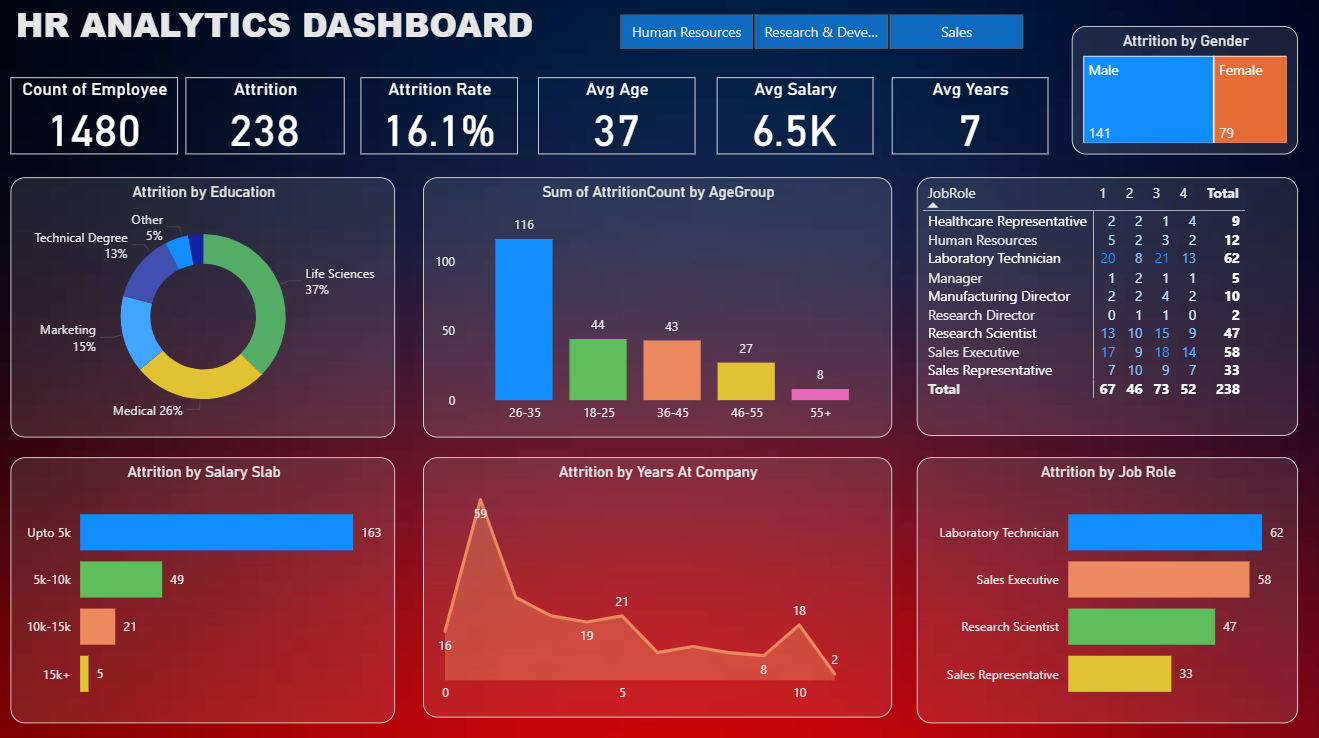

What the dashboard file says about the page in this screenshot:
{"tool":"powerbi","page":{"name":"Page 1","canvas":[1280,720],"ordinal":0},"visuals":[{"type":"card","title":"Count of Employee","fields":{"Values":["CountNonNull(HR_Analytics.EmpID)"]},"box":[12.1,78.4,153.2,74.8],"z":0},{"type":"card","title":"Attrition","fields":{"Values":["Sum(HR_Analytics.AttritionCount)"]},"box":[181,78.4,153.2,74.8],"z":1000},{"type":"card","title":"Attrition Rate","fields":{"Values":["HR_Analytics.AttritionRate"]},"box":[349.9,78.4,152,74.8],"z":2000},{"type":"card","title":"Avg Age","fields":{"Values":["Avg(HR_Analytics.Age)"]},"box":[521.2,78.4,152,74.8],"z":3000},{"type":"card","title":"Avg Salary","fields":{"Values":["Avg(HR_Analytics.MonthlyIncome)"]},"box":[693.7,78.4,150.8,74.8],"z":4000},{"type":"card","title":"Avg Years","fields":{"Values":["Avg(HR_Analytics.YearsAtCompany)"]},"box":[862.6,78.4,150.8,74.8],"z":5000},{"type":"donutChart","title":"Attrition by Education","fields":{"Category":["HR_Analytics.EducationField"],"Y":["Sum(HR_Analytics.AttritionCount)"]},"box":[12.1,174.9,371.6,250.9],"z":6000},{"type":"columnChart","fields":{"Category":["HR_Analytics.AgeGroup"],"Y":["Sum(HR_Analytics.AttritionCount)"]},"box":[410.2,174.9,452.4,250.9],"z":7000},{"type":"pivotTable","fields":{"Rows":["HR_Analytics.JobRole"],"Columns":["HR_Analytics.JobSatisfaction"],"Values":["Sum(HR_Analytics.AttritionCount)"]},"box":[886.7,174.9,368,249.7],"z":8000},{"type":"barChart","title":"Attrition by Salary Slab","fields":{"Category":["HR_Analytics.SalarySlab"],"Y":["Sum(HR_Analytics.AttritionCount)"]},"box":[12.1,445.2,371.6,257],"z":9000},{"type":"barChart","title":"Attrition by Job Role","fields":{"Category":["HR_Analytics.JobRole"],"Y":["Sum(HR_Analytics.AttritionCount)"]},"box":[886.7,445.2,368,257],"z":10000},{"type":"areaChart","title":"Attrition by Years At Company","fields":{"Category":["HR_Analytics.YearsAtCompany"],"Y":["Sum(HR_Analytics.AttritionCount)"]},"box":[410.2,445.2,452.4,250.9],"z":11000},{"type":"treemap","title":"Attrition by Gender","fields":{"Group":["HR_Analytics.Gender"],"Values":["Sum(HR_Analytics.AttritionCount)"]},"box":[1036.3,29,218.4,124.3],"z":12000},{"type":"slicer","fields":{"Values":["HR_Analytics.Department"]},"box":[574.3,10.9,439.1,47.1],"z":13000},{"type":"textbox","box":[12.1,0,562.2,57.9],"z":14000}]}

Visuals, with their boxes in screenshot pixels (x1, y1, x2, y2), scaled from the page's 1280x720 canvas onto the 1319x738 screenshot:
"Count of Employee" card: bbox=[12, 80, 170, 157]
"Attrition" card: bbox=[187, 80, 344, 157]
"Attrition Rate" card: bbox=[361, 80, 517, 157]
"Avg Age" card: bbox=[537, 80, 694, 157]
"Avg Salary" card: bbox=[715, 80, 870, 157]
"Avg Years" card: bbox=[889, 80, 1044, 157]
"Attrition by Education" donutChart: bbox=[12, 179, 395, 436]
columnChart - HR_Analytics.AgeGroup x Sum(HR_Analytics.AttritionCount): bbox=[423, 179, 889, 436]
pivotTable - HR_Analytics.JobRole x HR_Analytics.JobSatisfaction: bbox=[914, 179, 1293, 435]
"Attrition by Salary Slab" barChart: bbox=[12, 456, 395, 720]
"Attrition by Job Role" barChart: bbox=[914, 456, 1293, 720]
"Attrition by Years At Company" areaChart: bbox=[423, 456, 889, 714]
"Attrition by Gender" treemap: bbox=[1068, 30, 1293, 157]
slicer - HR_Analytics.Department: bbox=[592, 11, 1044, 59]
textbox: bbox=[12, 0, 592, 59]
